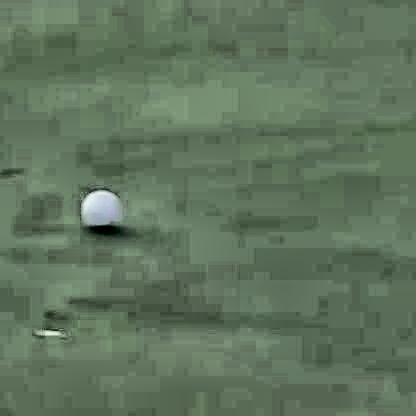golfball: (80, 185, 117, 224)
